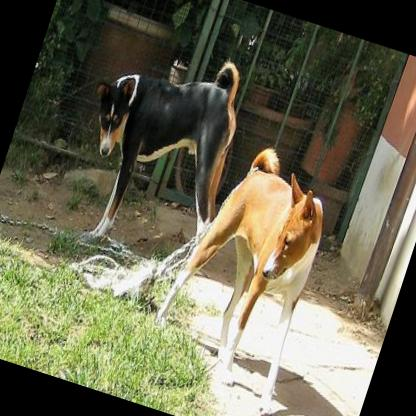basenji: (141, 127, 361, 416), (51, 17, 266, 272)
